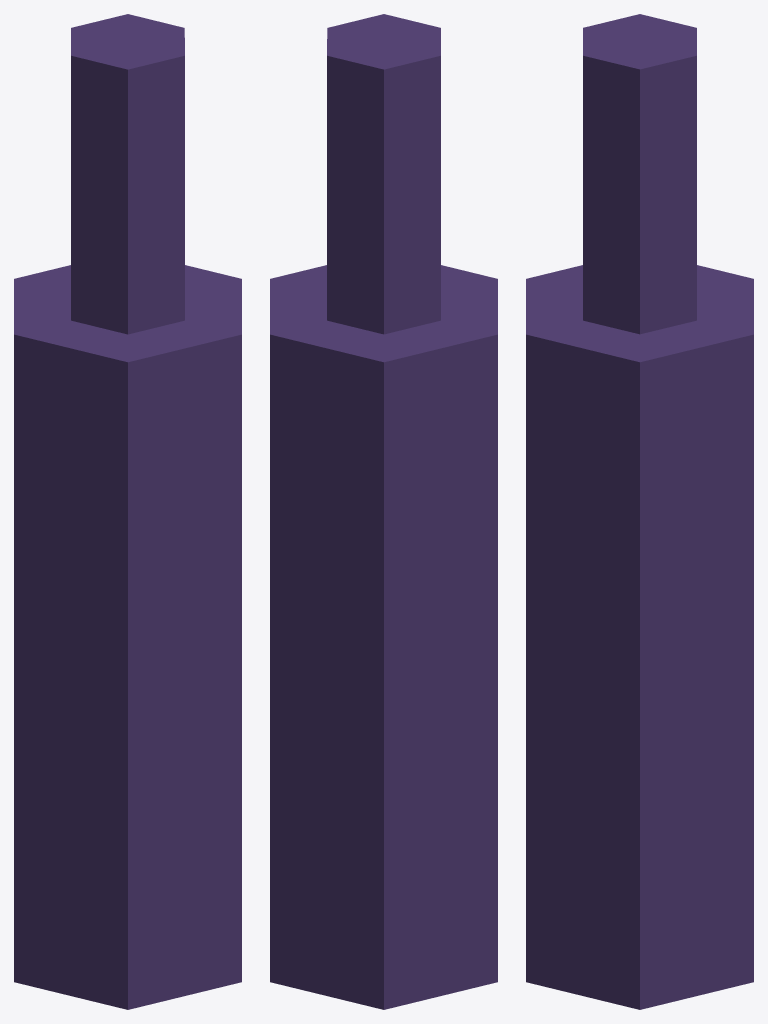
Rendered from Hex_Tall_14.fbx.
3 renders of one model, left to right at view 1: azimuth 30°, elevation 25°; view 2: azimuth 150°, elevation 25°; view 3: azimuth 270°, elevation 25°, orthographic.
Parts seen in each view (by area): view 1: TileHex14; view 2: TileHex14; view 3: TileHex14.
Part boxes in pixels (x1,y1,x2,y2): TileHex14: (14, 14, 241, 1009); TileHex14: (270, 14, 497, 1009); TileHex14: (526, 14, 753, 1009).
Bounding box in the file's own units: 118 × 450 × 102.
